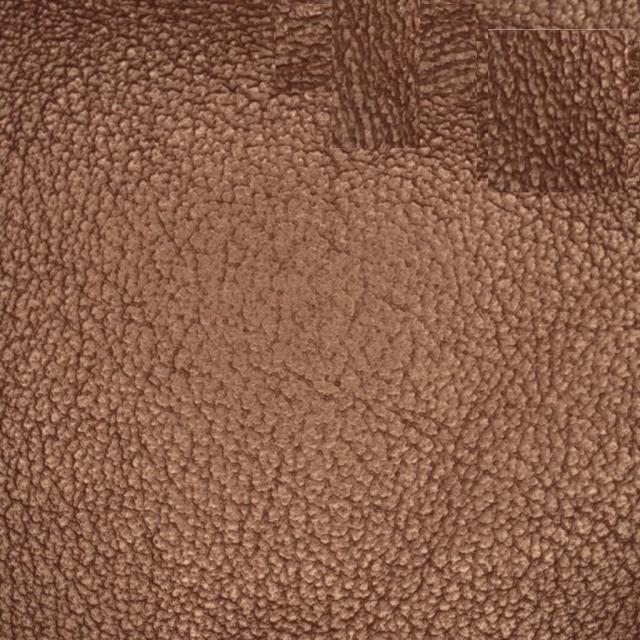Healed Injury: (323, 10, 602, 216)
